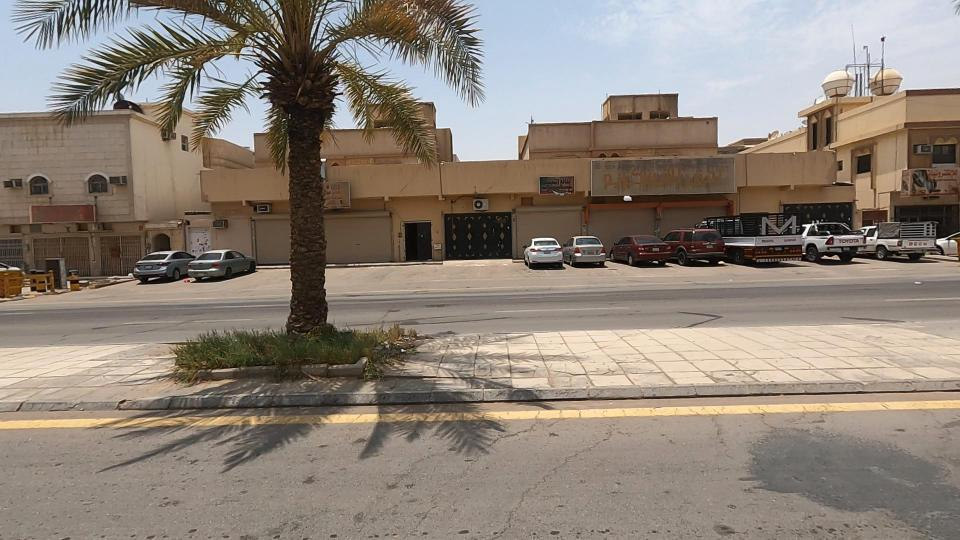BAD_BILLBOARD: (523, 137, 814, 223), (0, 189, 141, 242)
